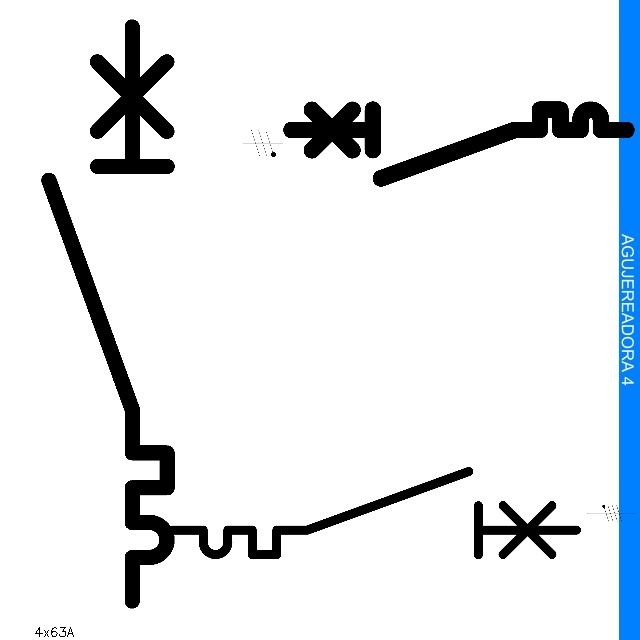interruptor_termomagnetico: (34, 12, 182, 616), (162, 461, 587, 565), (282, 101, 634, 187)
